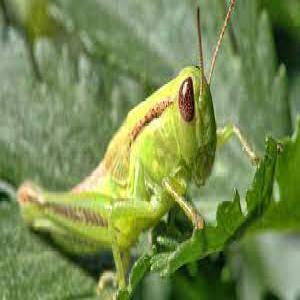locust: (22, 24, 238, 258)
